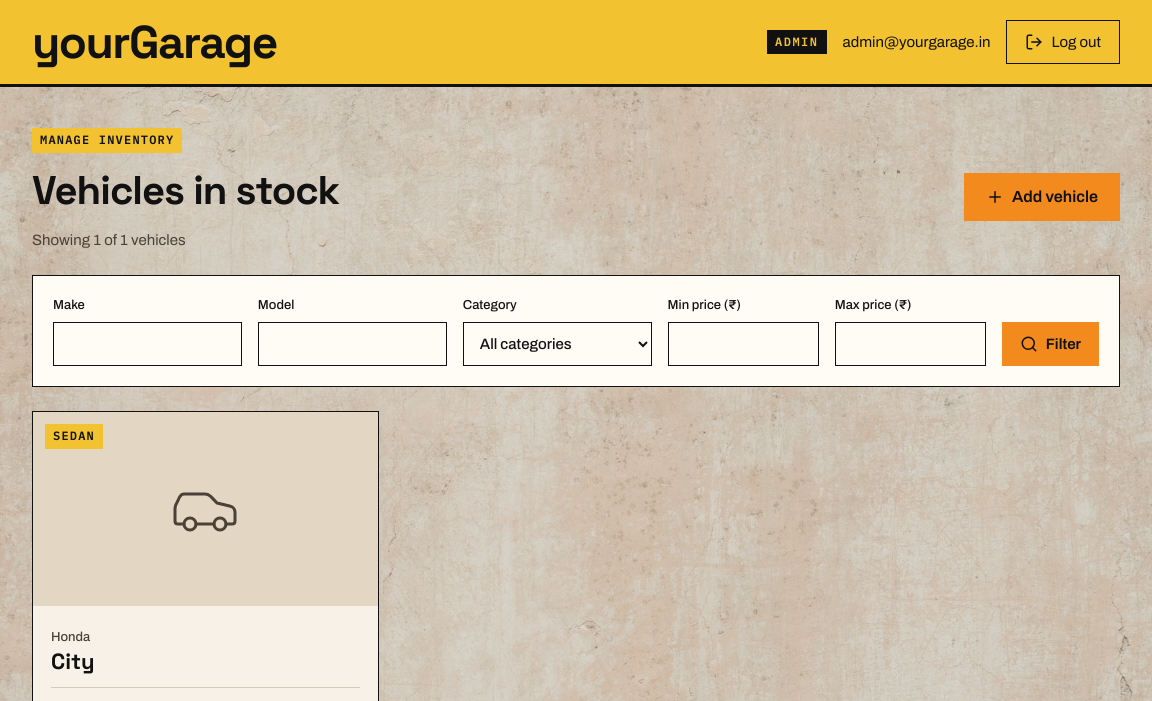
it: DashboardPage — add vehicle (admin) › opens a dialog with the form, and Cancel closes it
Expected: the text "Showing 1 of 1 vehicles" is shown, [32,232,186,248]
Click the button "Add vehicle" at (1042, 197), box [964,173,1120,221]
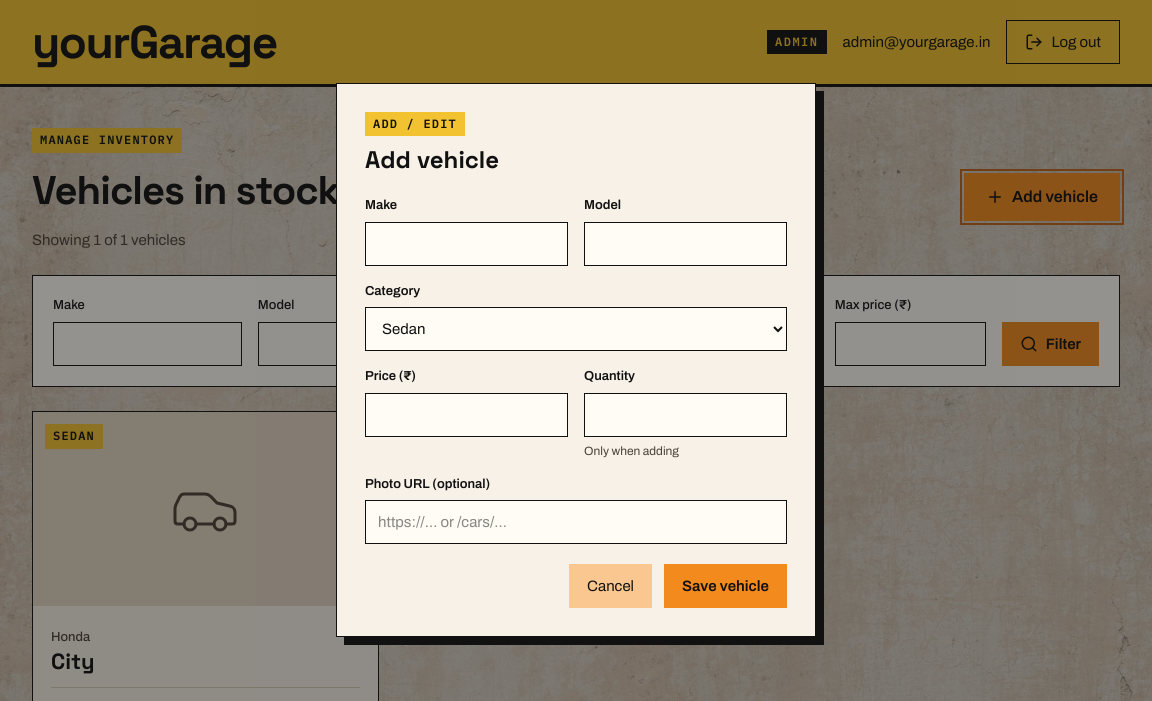
Now the field labelled "Make" is shown, box [365,222,568,266]
Now the field labelled "Model" is shown, box [584,222,787,266]
Now the field labelled "Price (₹)" is shown, box [365,393,568,437]
Click the button "Cancel" at (611, 586), box [569,564,652,608]
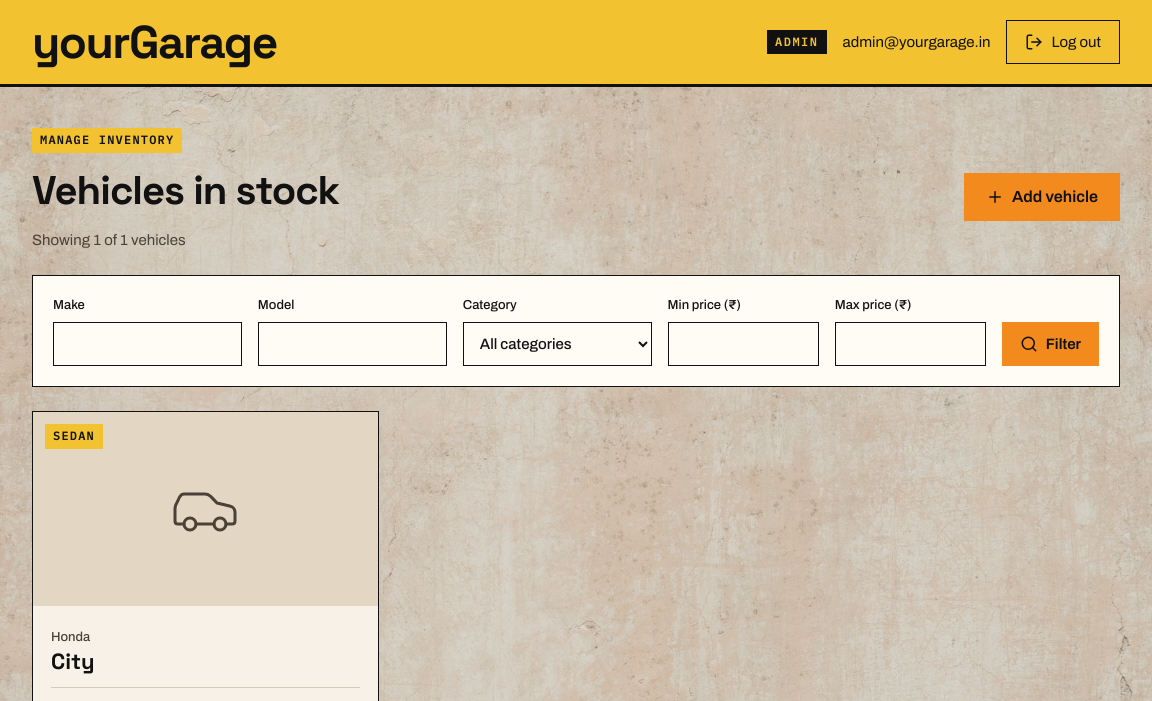
Now the dialog is gone
